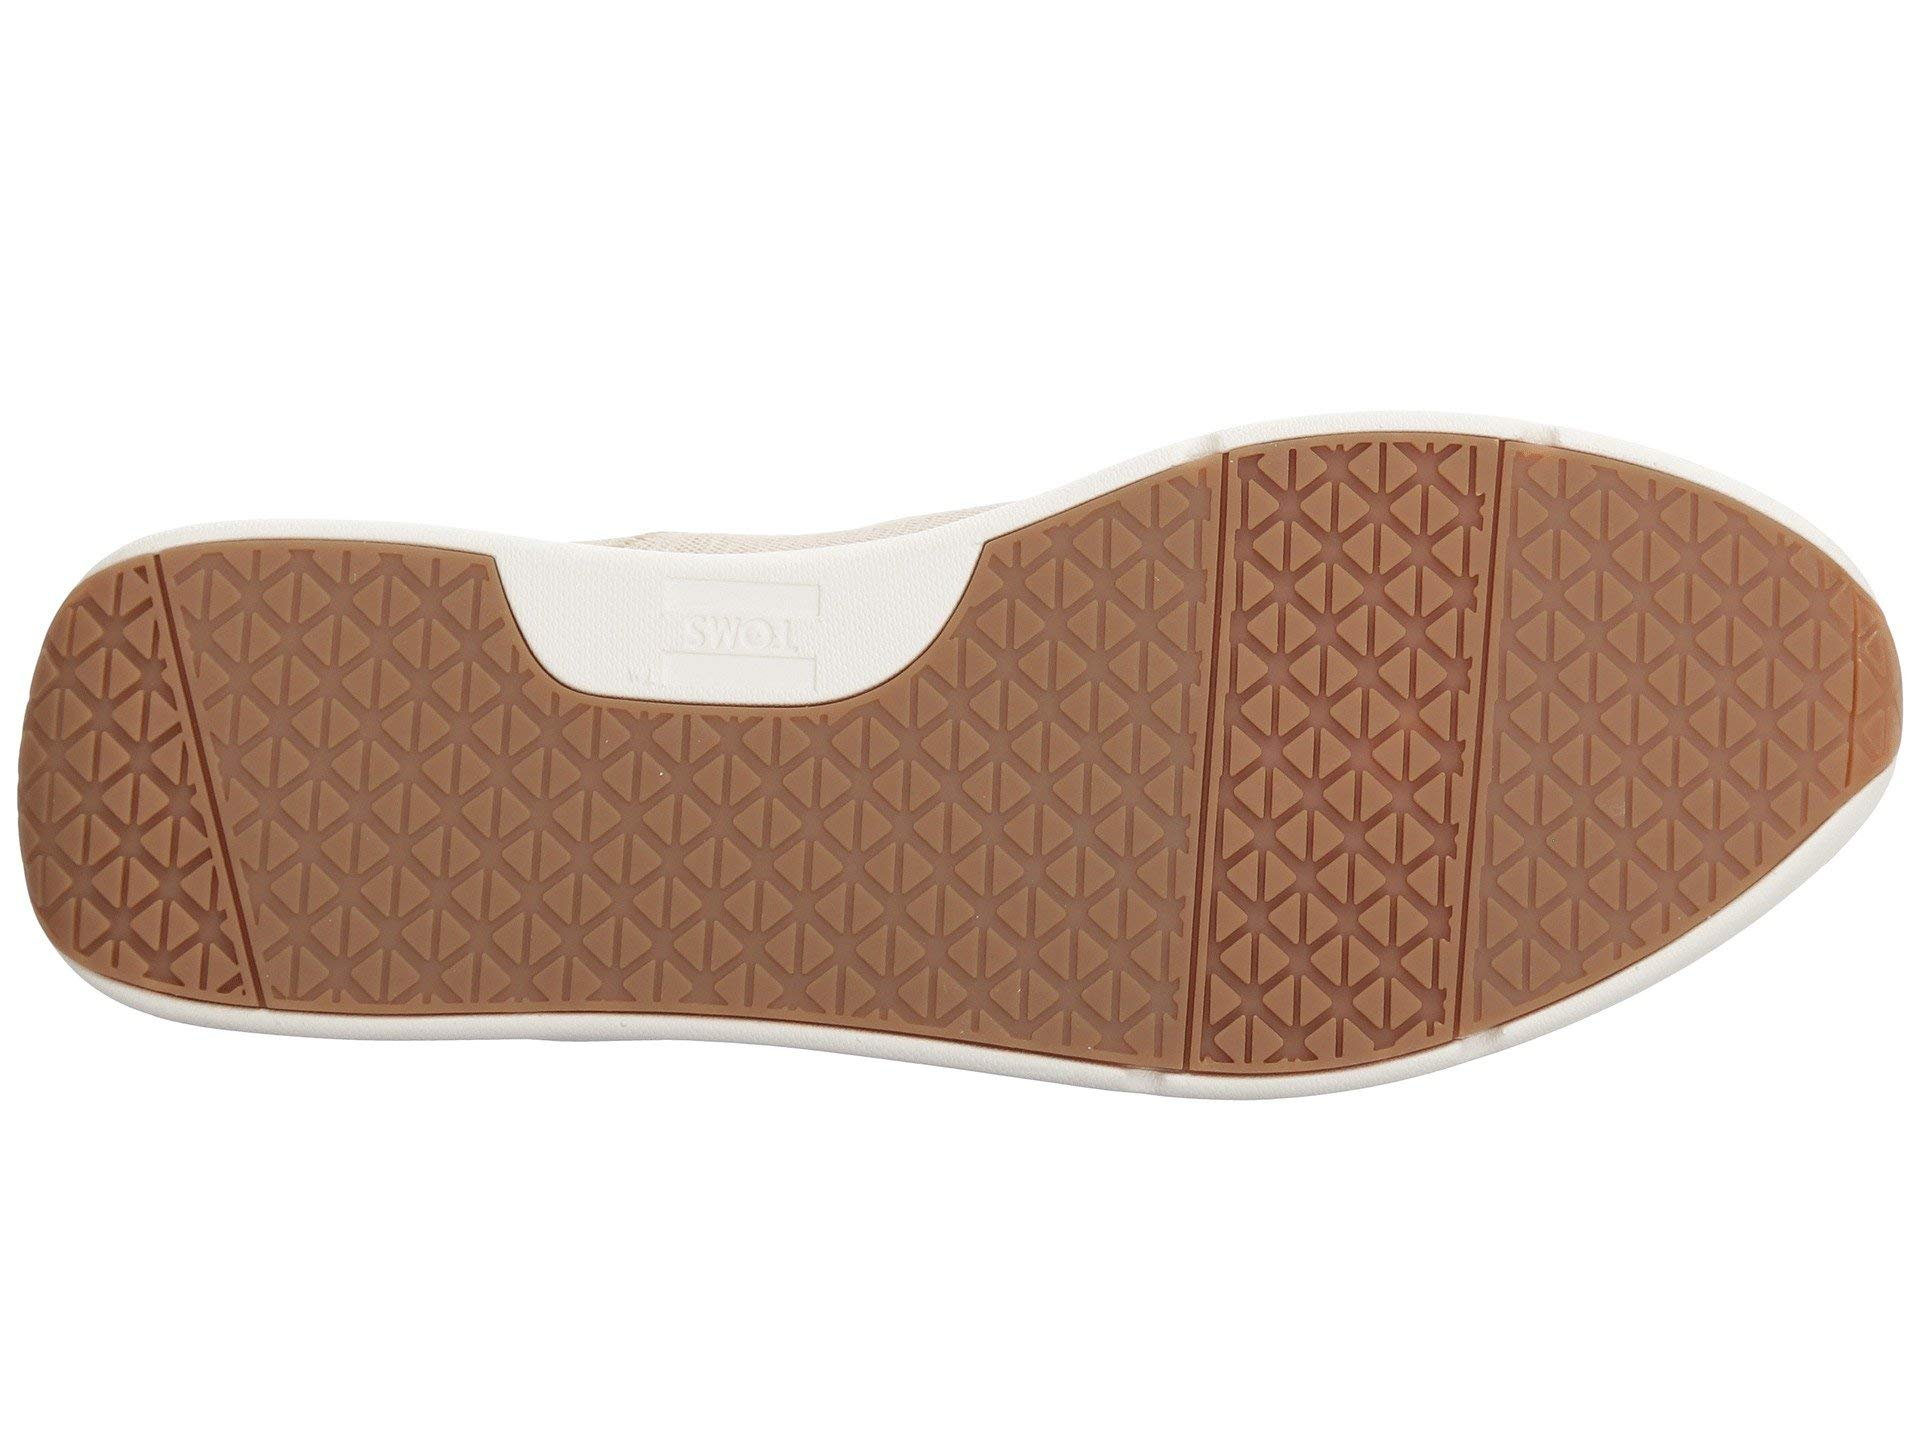line: (1039, 613, 1404, 992), (68, 637, 488, 936)
quad: (1039, 613, 1404, 992), (68, 637, 488, 936), (1494, 535, 1754, 846)
triangle: (1039, 613, 1404, 992), (68, 637, 488, 936), (1494, 535, 1754, 846)
